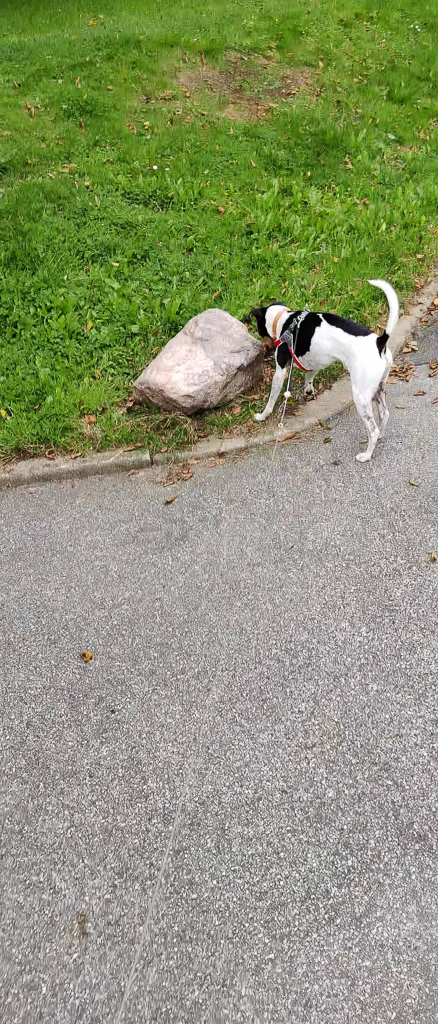Dog: (246, 268, 407, 467)
